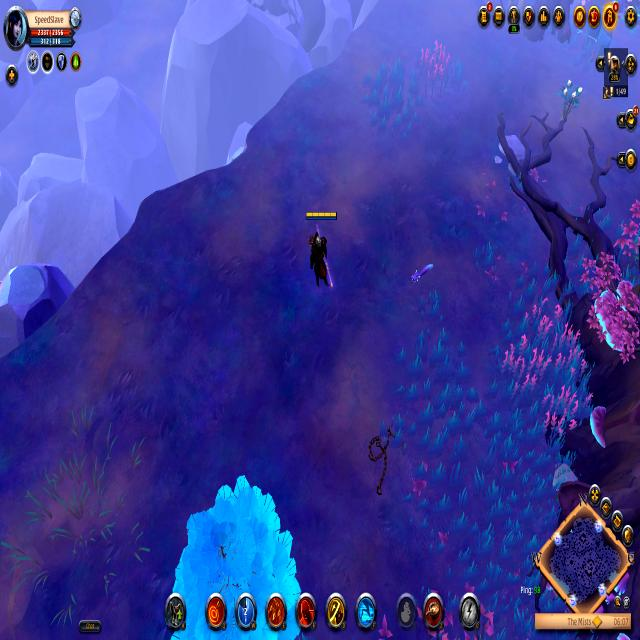hide: (558, 70, 583, 122)
red: (301, 204, 339, 294)
wisp caged: (165, 468, 306, 640)
